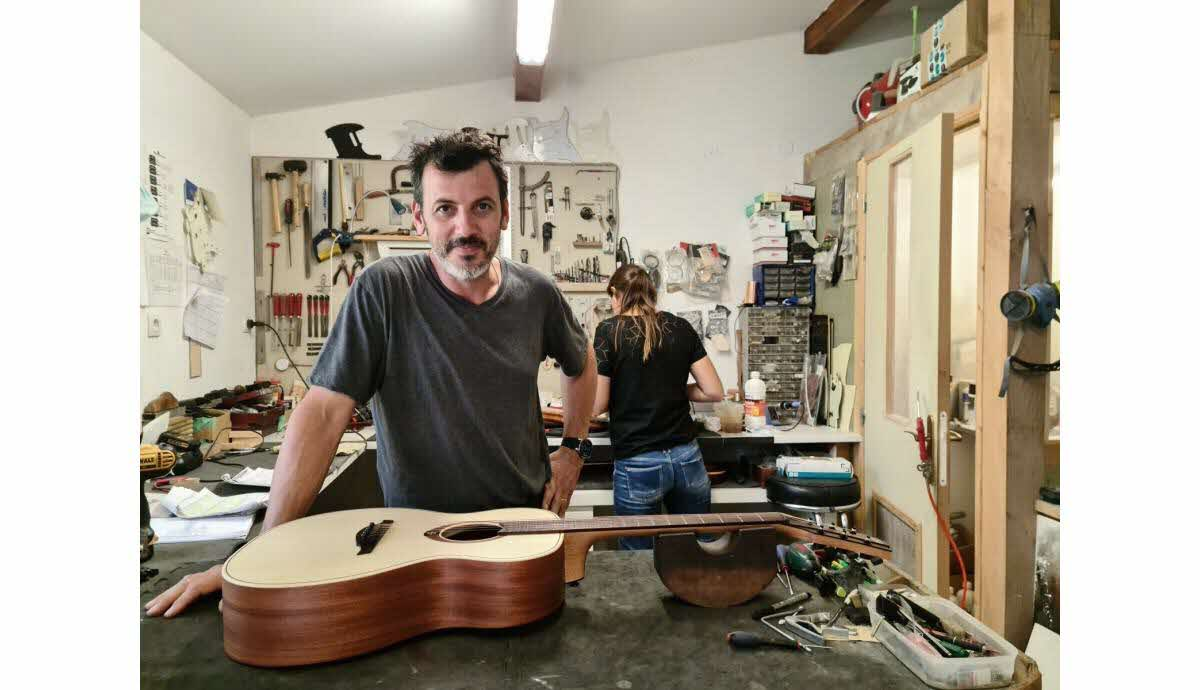without_mask: (430, 192, 497, 257)
